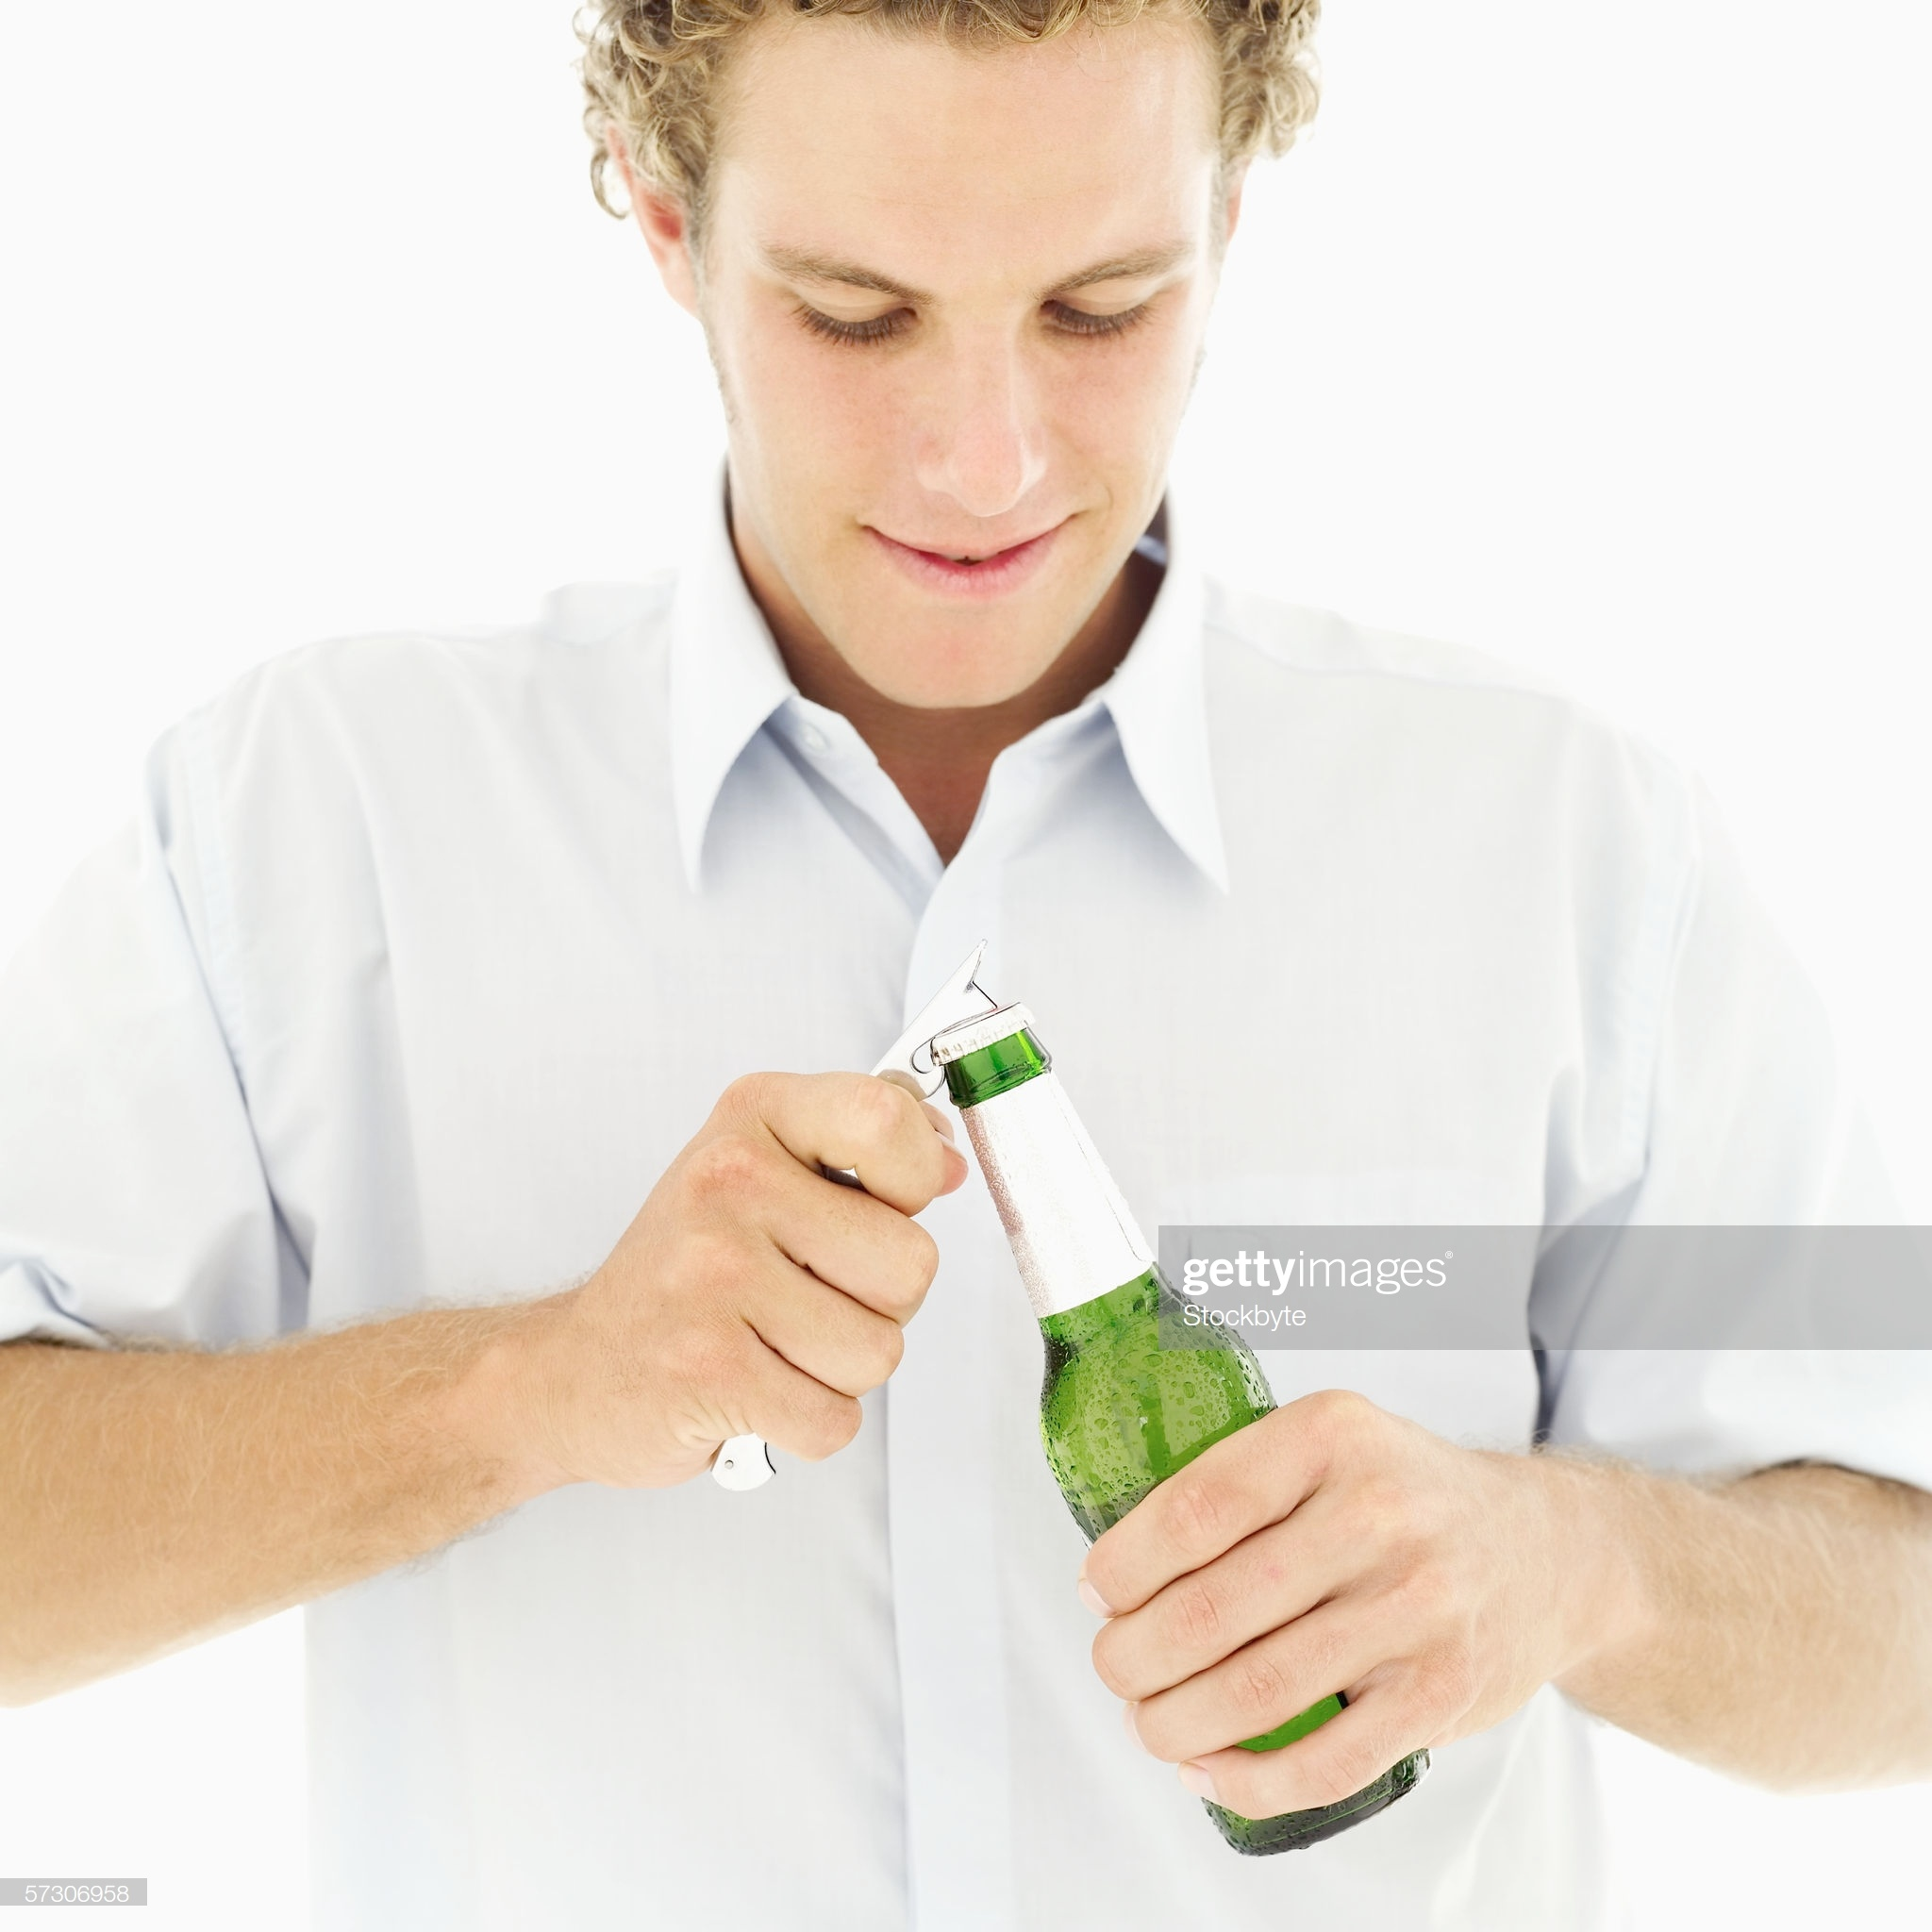beerBottle: (920, 1017, 1403, 1851)
